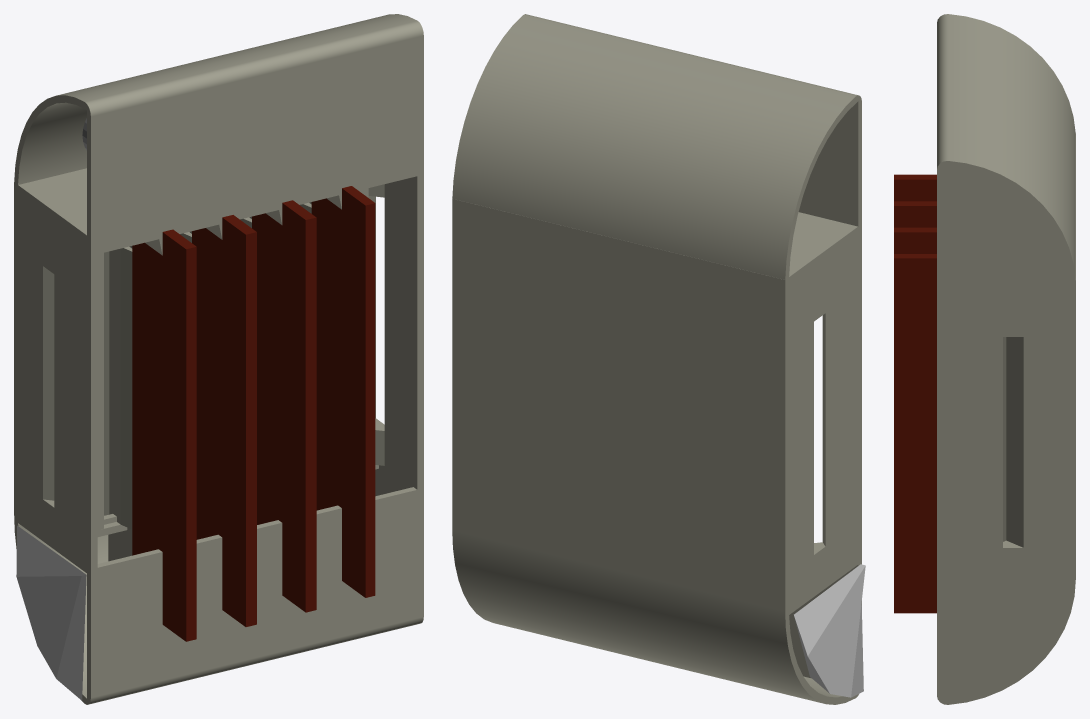
3 renders of one model, left to right at view 1: azimuth 30°, elevation 25°; view 2: azimuth 150°, elevation 25°; view 3: azimuth 270°, elevation 25°, orthographic. The views are drawn at different scales.
Parts seen in each view (by area): view 1: 0901203改 組合.2.mesh, 立方体.003.6.mesh, 立方体.002.5.mesh, 立方体.001.4.mesh, 立方体.006.3.mesh, 立方体.004.12.mesh; view 2: 0901203改 組合.2.mesh, 立方体.004.12.mesh; view 3: 0901203改 組合.2.mesh, 立方体.006.3.mesh, 立方体.003.6.mesh, 立方体.002.5.mesh, 立方体.001.4.mesh.
Boxes of the visible parts, box(x1,y1,x2,y2) form: 0901203改 組合.2.mesh: box(14, 14, 423, 704); 立方体.003.6.mesh: box(132, 229, 196, 641); 立方体.002.5.mesh: box(192, 215, 256, 626); 立方体.001.4.mesh: box(252, 200, 316, 612); 立方体.006.3.mesh: box(311, 186, 375, 597); 立方体.004.12.mesh: box(16, 525, 86, 700); 0901203改 組合.2.mesh: box(452, 14, 861, 704); 立方体.004.12.mesh: box(794, 564, 865, 697); 0901203改 組合.2.mesh: box(937, 14, 1075, 704); 立方体.006.3.mesh: box(894, 254, 936, 613); 立方体.003.6.mesh: box(894, 174, 936, 201); 立方体.002.5.mesh: box(894, 201, 936, 227); 立方体.001.4.mesh: box(894, 227, 936, 253).
Size of the model in its own units: 104 by 173 by 52.3.
